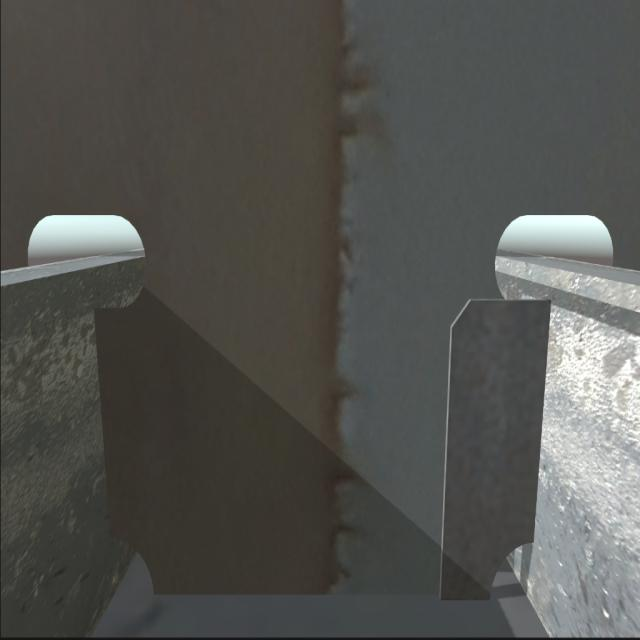fillet_hole: (489, 541, 537, 601), (111, 532, 157, 594)
fillet_yong_jeop_jang: (144, 572, 501, 606)
longi_yong_jeop_jang: (527, 292, 552, 544), (91, 302, 117, 542)
plate_CP03: (441, 295, 546, 604)
